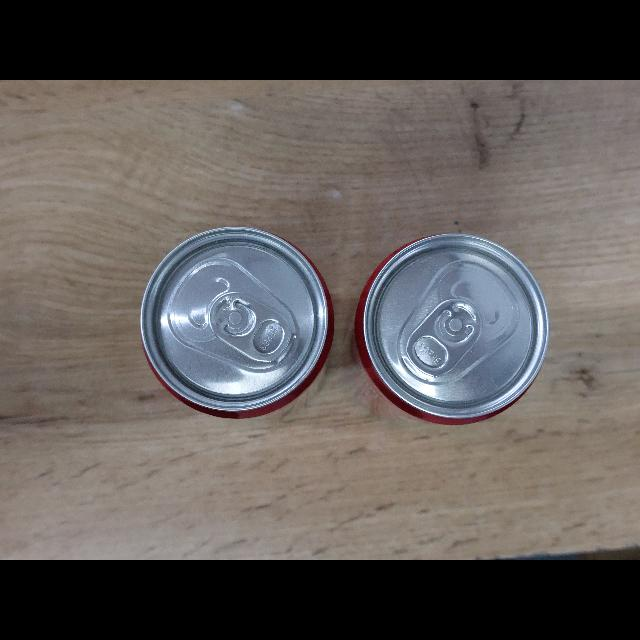coca_cola: (141, 227, 334, 418), (355, 234, 549, 424)
